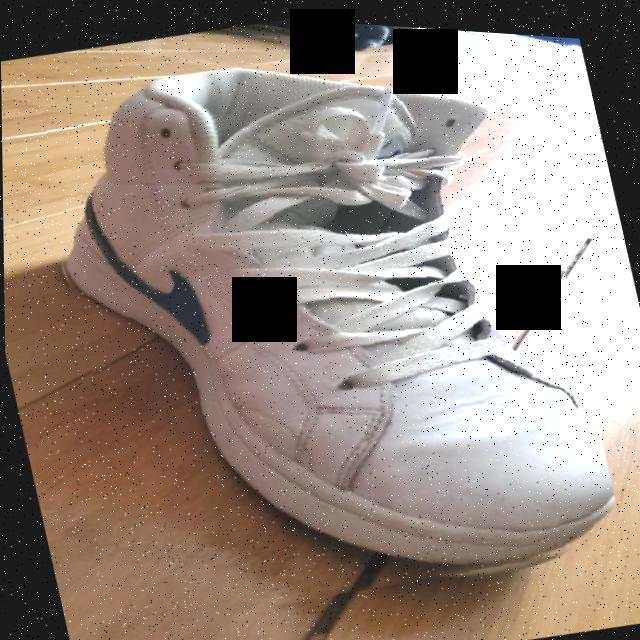shoe: (18, 1, 627, 640)
